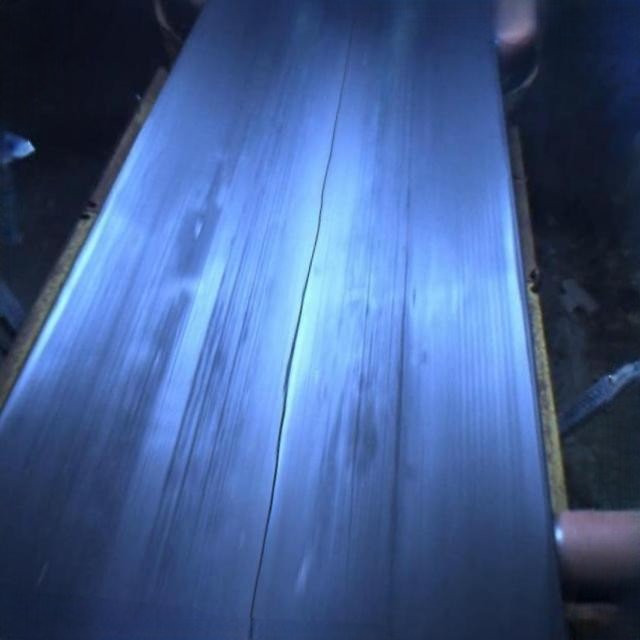Tear: (231, 40, 366, 640)
